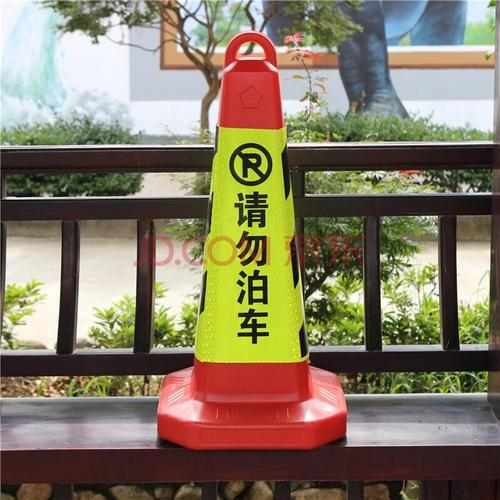cone_barrel: (168, 35, 336, 439)
